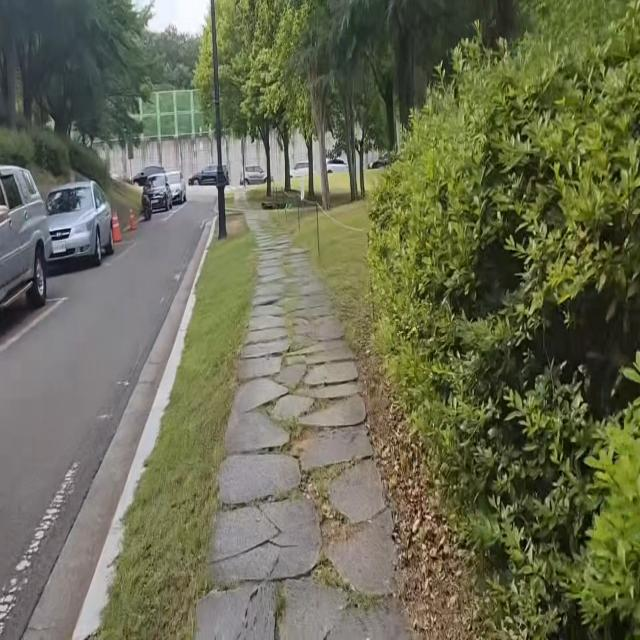obstacle: (0, 150, 62, 327), (41, 178, 121, 292), (210, 0, 233, 244), (138, 159, 192, 231)
road: (0, 191, 217, 640)
sidewalk: (71, 207, 438, 640)
